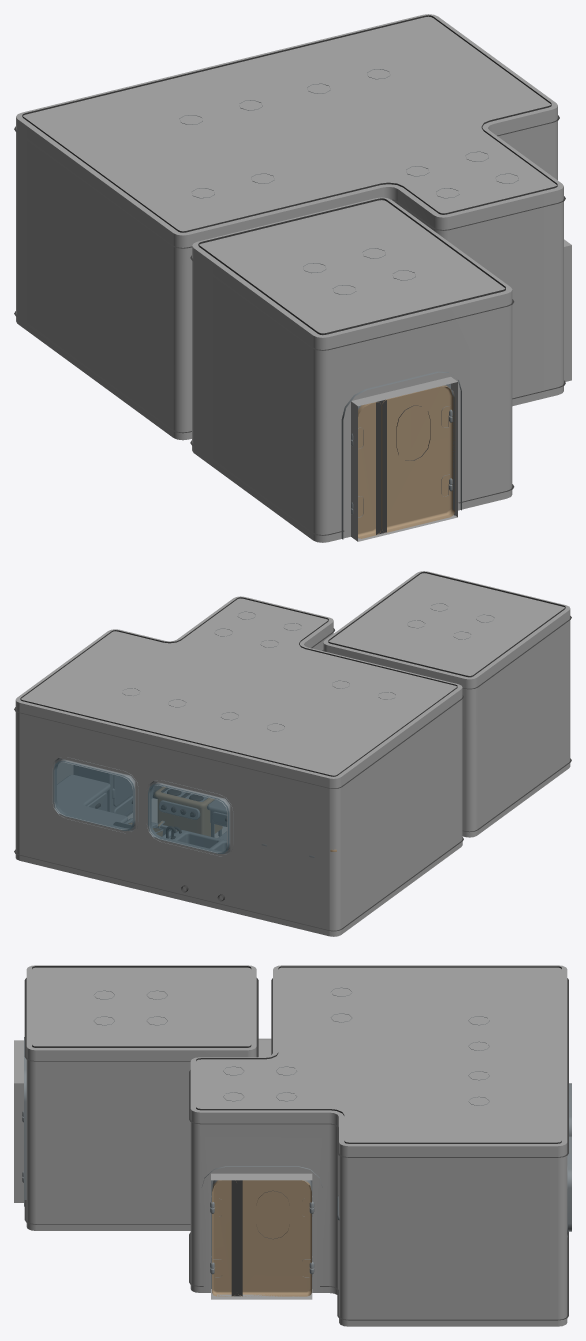
The model's file is SM_room.fbx.
3 views of the same model, one above another, from view 1: azimuth 30°, elevation 25°; view 2: azimuth 150°, elevation 25°; view 3: azimuth 270°, elevation 25° (orthographic). The views are drawn at different scales.
Visible parts, largest first — view 1: SM_room_1, SM_door_2, SM_room_2; view 2: SM_room_1, SM_windows, SM_room_2, SmartCombine_26, SM_stove_1, SM_fridge (×2), SM_sink, SmartCombine_22; view 3: SM_room_1, SM_door_1, SM_room_2, SM_windows, SM_door_2.
Part boxes in pixels (x1,y1,x2,y2): SM_room_1: (16, 14, 571, 542); SM_door_2: (341, 371, 461, 539); SM_room_2: (14, 15, 565, 535); SM_room_1: (15, 571, 570, 936); SM_windows: (52, 757, 233, 856); SM_room_2: (14, 571, 571, 931); SmartCombine_26: (57, 775, 127, 824); SM_stove_1: (154, 786, 222, 836); SM_fridge (×2): (73, 765, 154, 816); SM_sink: (166, 826, 227, 901); SmartCombine_22: (207, 799, 227, 840); SM_room_1: (14, 965, 567, 1326); SM_door_1: (201, 1166, 322, 1296); SM_room_2: (24, 966, 568, 1320); SM_windows: (567, 1083, 571, 1237); SM_door_2: (22, 1037, 26, 1206).
Size of the model in its own units: 783 by 366 by 1012.
